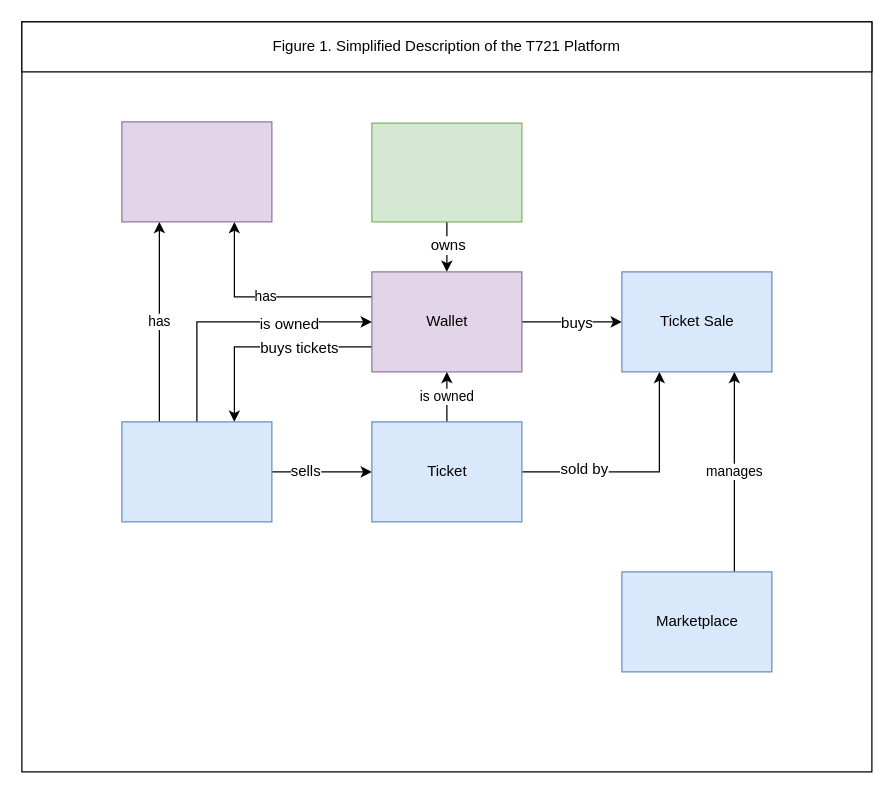
Image size: 894x794. Some labels were removed from this diagram. The shapes that lost their labels are listed below. From the top down, each one's centre as x and y in pixels, then its label:
the point at 196,171: Cryptocurrency Funds
the point at 446,172: User
the point at 196,471: Event
